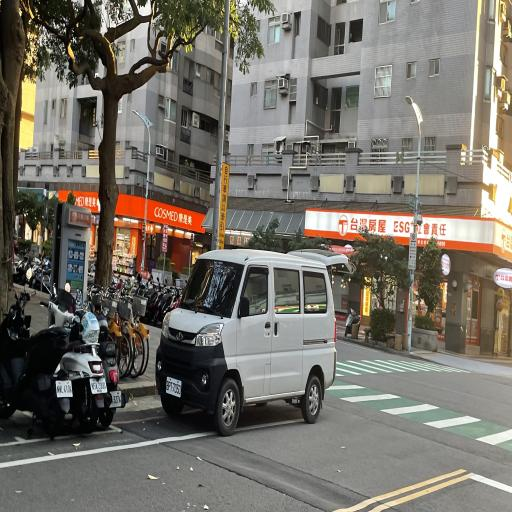MIU: (148, 342, 234, 438)
car: (148, 220, 345, 448)
redline: (113, 409, 210, 434)
